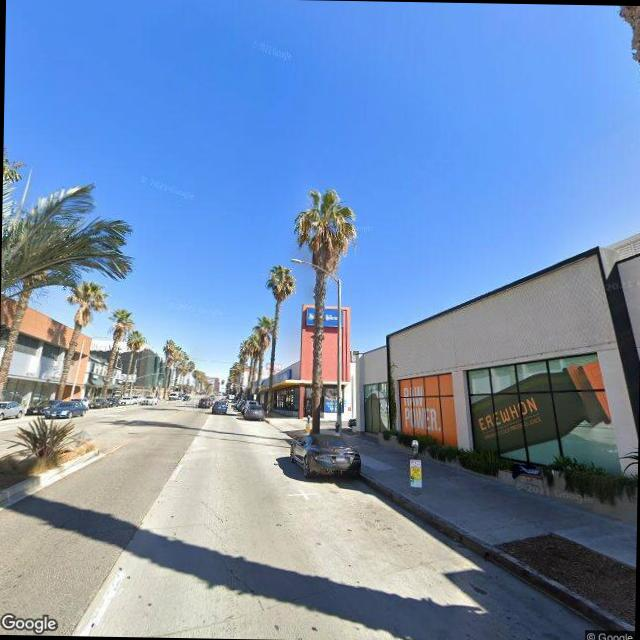pothole: (199, 504, 267, 610)
